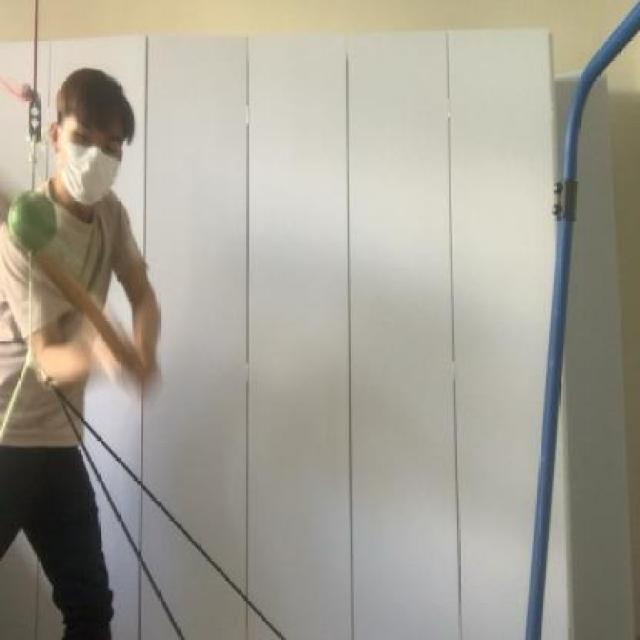baseball: (5, 188, 63, 254)
